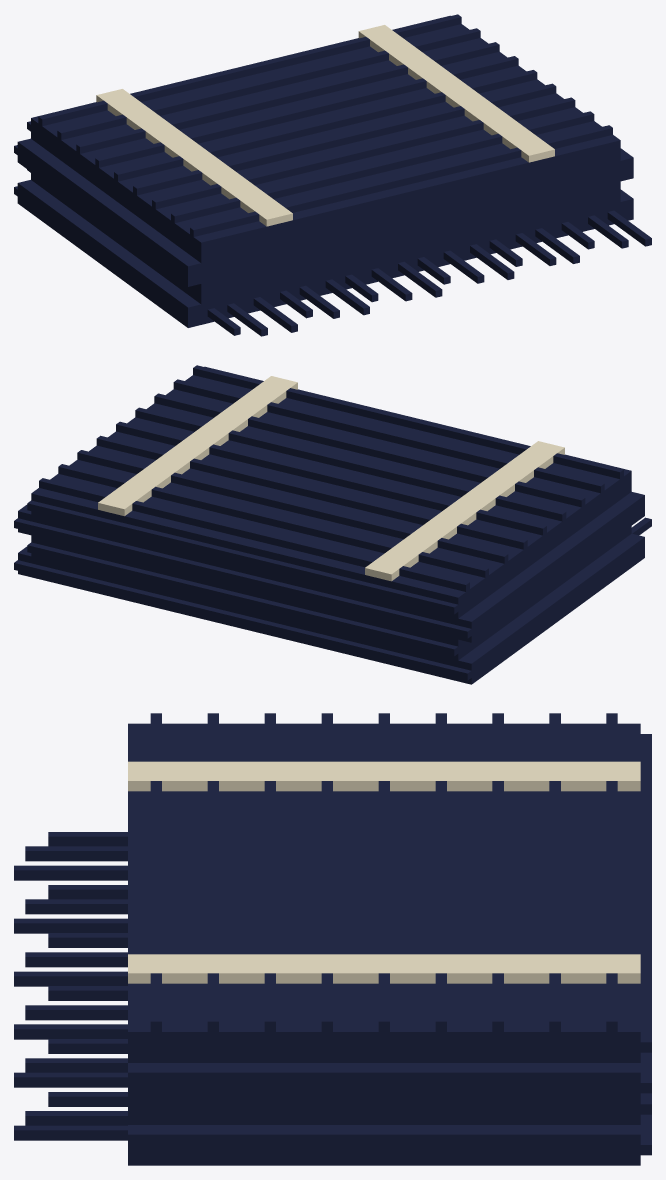
Rendered from scarf_wool_long.glb.
3 views of the same model, one above another, from view 1: azimuth 30°, elevation 25°; view 2: azimuth 150°, elevation 25°; view 3: azimuth 270°, elevation 25° (orthographic). The views are drawn at different scales.
Parts seen in each view (by area): view 1: scarf_wool_long:compound; view 2: scarf_wool_long:compound; view 3: scarf_wool_long:compound.
Boxes of the visible parts, x1,y1,x2,y2 form: scarf_wool_long:compound: (14,14,651,336); scarf_wool_long:compound: (14,365,651,684); scarf_wool_long:compound: (14,713,651,1165).
Size of the model in its own units: 0.272 by 0.052 by 0.224.
